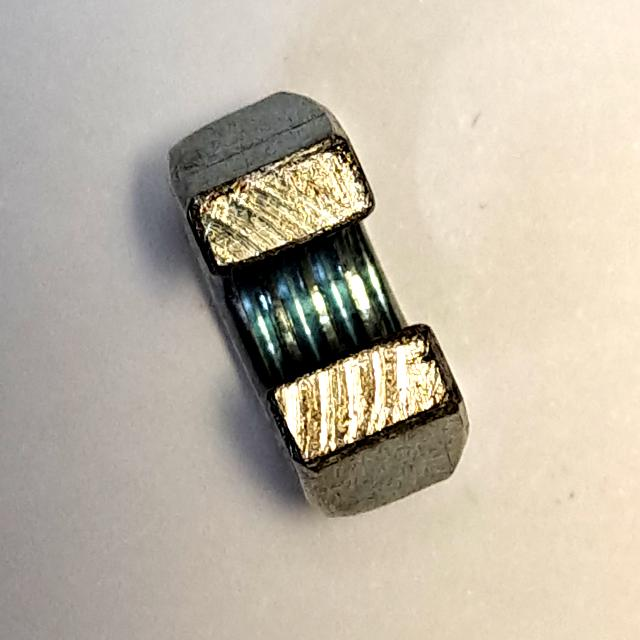Side-Fracture: (160, 79, 481, 536)
